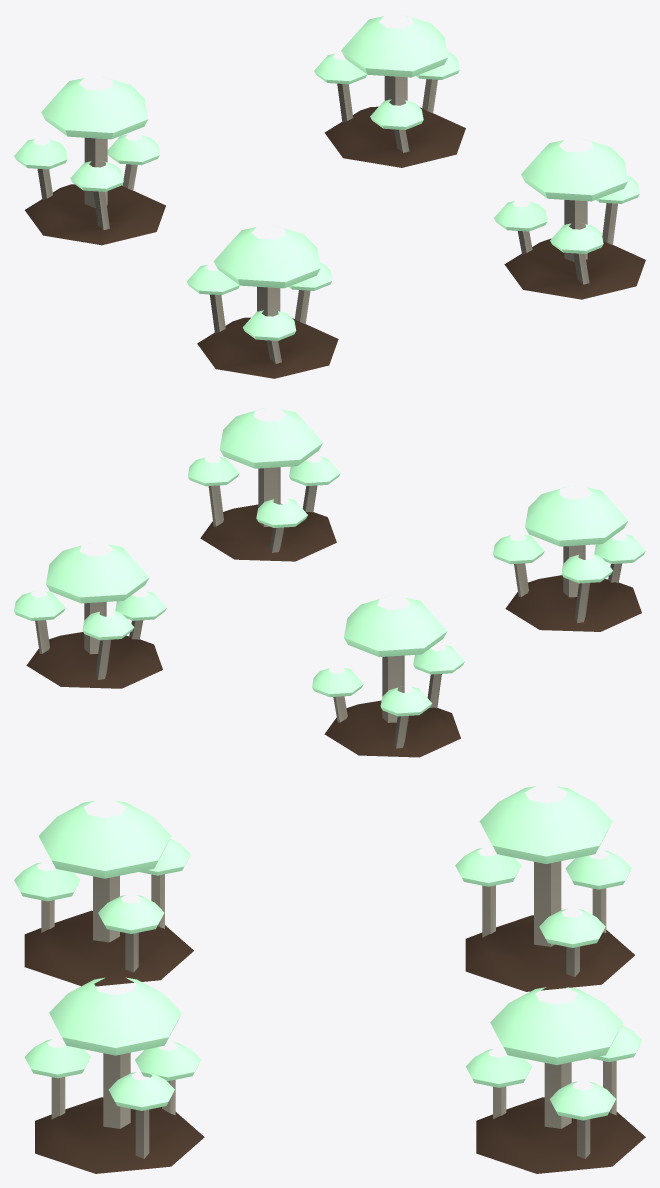
Rendered from crop_mushroom_s3.glb.
3 renders of one model, top to bottom at view 1: azimuth 30°, elevation 25°; view 2: azimuth 150°, elevation 25°; view 3: azimuth 270°, elevation 25°, orthographic. The views are drawn at different scales.
Visible parts, largest first — view 1: crop_mushroom_s3; view 2: crop_mushroom_s3; view 3: crop_mushroom_s3.
Part boxes in pixels (x1,y1,x2,y2): crop_mushroom_s3: [14, 15, 645, 378]; crop_mushroom_s3: [14, 408, 645, 757]; crop_mushroom_s3: [14, 786, 645, 1173].
Bounding box in the file's own units: 1.2 × 0.3458 × 1.2.
